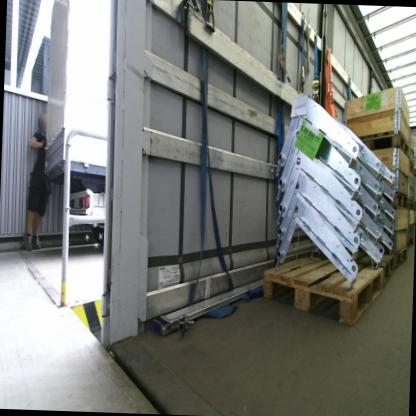pallet: (263, 256, 382, 326), (358, 129, 412, 158), (377, 252, 398, 282), (394, 191, 410, 210), (395, 246, 409, 264), (405, 237, 414, 249), (409, 156, 414, 176), (408, 199, 415, 210)
